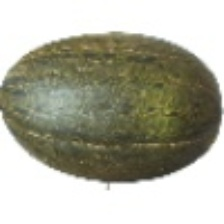honeydew: (56, 38, 202, 209)
